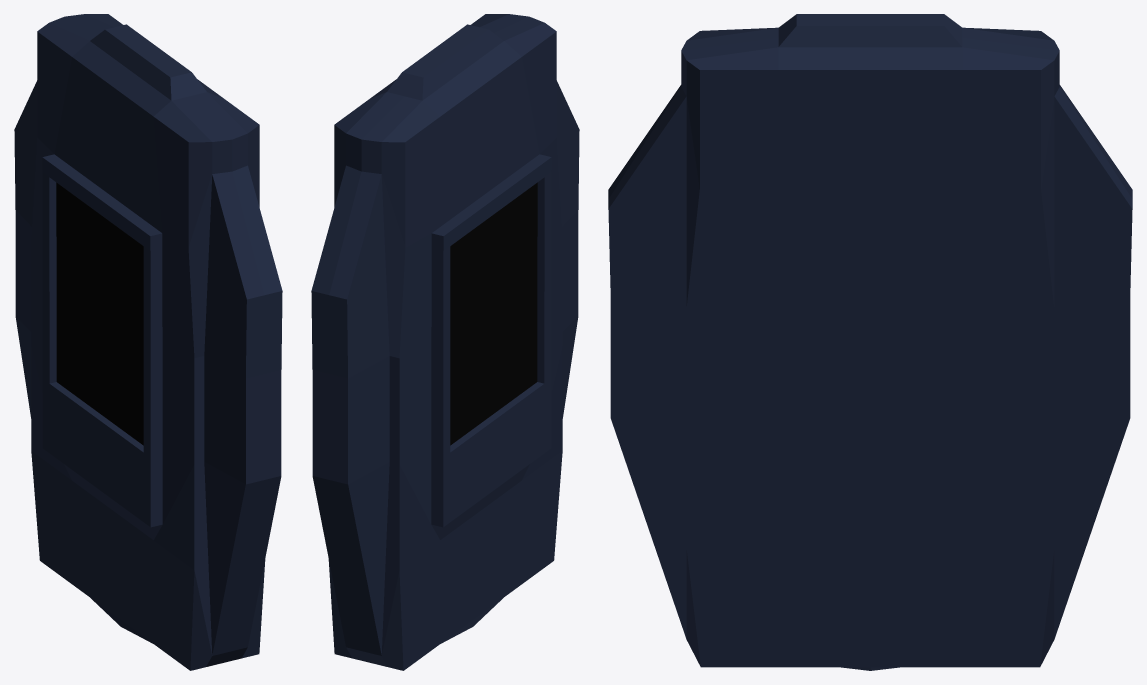
The model's file is keylock_new.fbx.
The picture shows the model from 3 angles, left to right: view 1: azimuth 30°, elevation 25°; view 2: azimuth 150°, elevation 25°; view 3: azimuth 270°, elevation 25°; orthographic projection. The views are drawn at different scales.
Parts seen in each view (by area): view 1: Cube; view 2: Cube; view 3: Cube.
Part boxes in pixels (<box>): Cube: <box>14,14,282,670</box>; Cube: <box>311,14,579,670</box>; Cube: <box>608,14,1132,670</box>.
Bounding box in the file's own units: 0.5409 × 3.39 × 2.48.
